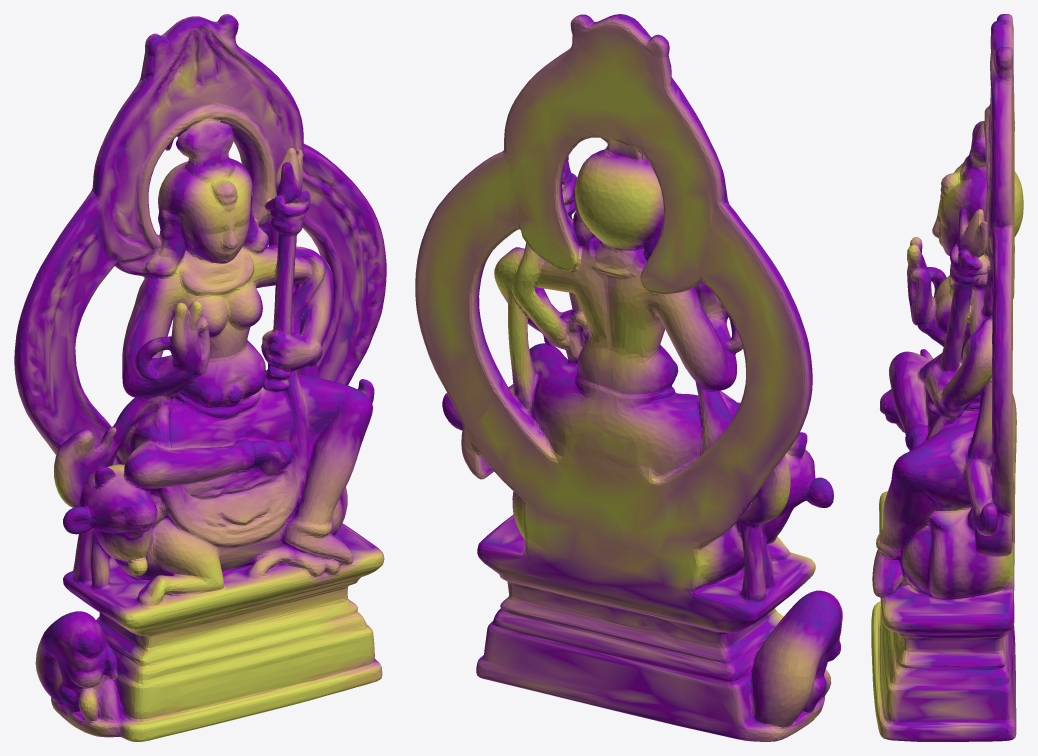
File: iter_9.glb
3 views of the same model, side by side, from view 1: azimuth 30°, elevation 25°; view 2: azimuth 150°, elevation 25°; view 3: azimuth 270°, elevation 25° (orthographic). The views are drawn at different scales.
Visible parts, largest first — view 1: textured_mesh; view 2: textured_mesh; view 3: textured_mesh.
Boxes of the visible parts, x1=… form: textured_mesh: x1=14, y1=14, x2=386, y2=741; textured_mesh: x1=415, y1=14, x2=842, y2=741; textured_mesh: x1=871, y1=14, x2=1023, y2=741.
Bounding box in the file's own units: 1.18 × 1.99 × 0.4198.
